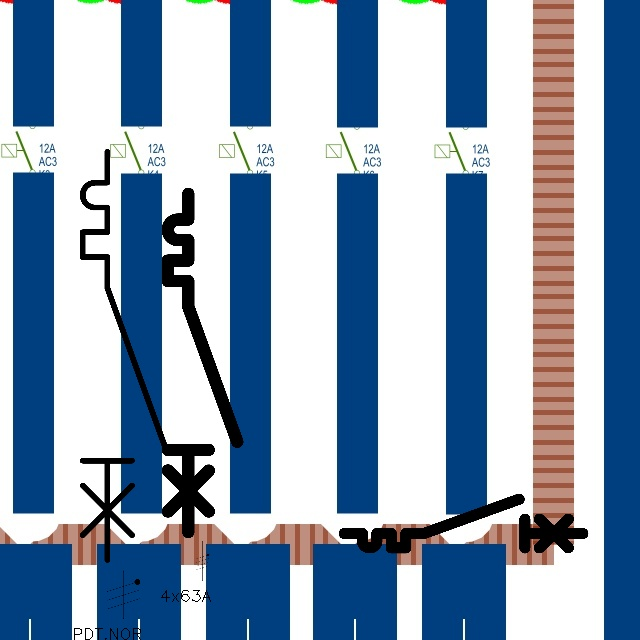interruptor_termomagnetico: (72, 141, 177, 570), (159, 185, 246, 541), (338, 493, 589, 554)
